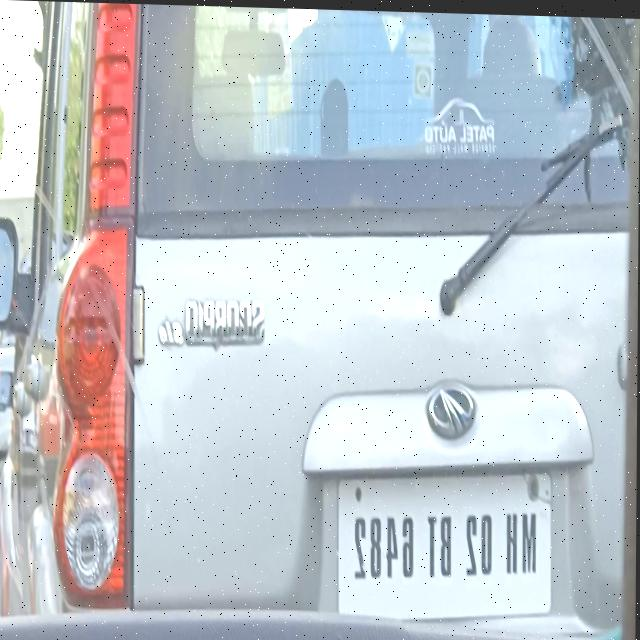plate: (336, 456, 555, 624)
